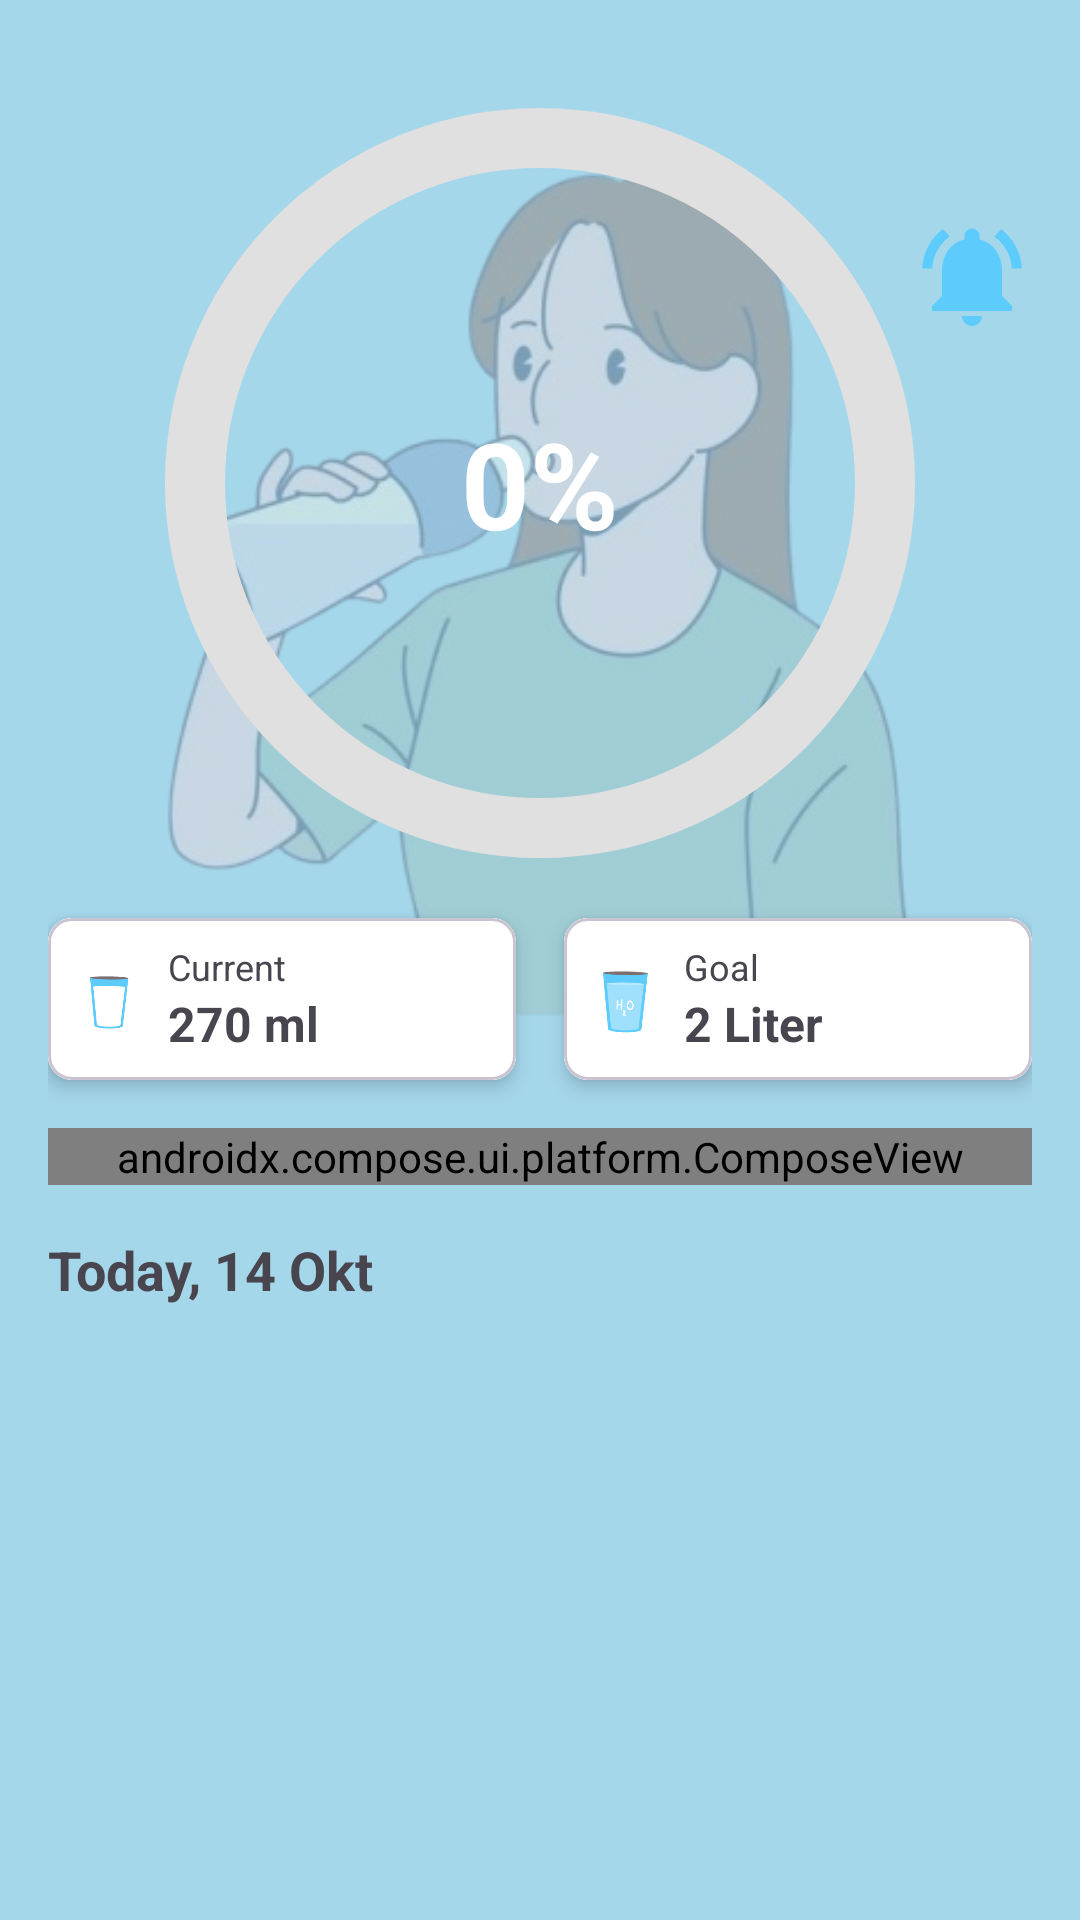

Icons on this 1080 x 1920 Android screen, each with its box as box(x1, y1, x2, y2):
Bell Icon: box(922, 228, 1022, 326)
